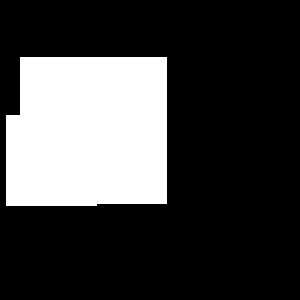circle: (20, 57, 167, 204), (6, 115, 97, 206)
